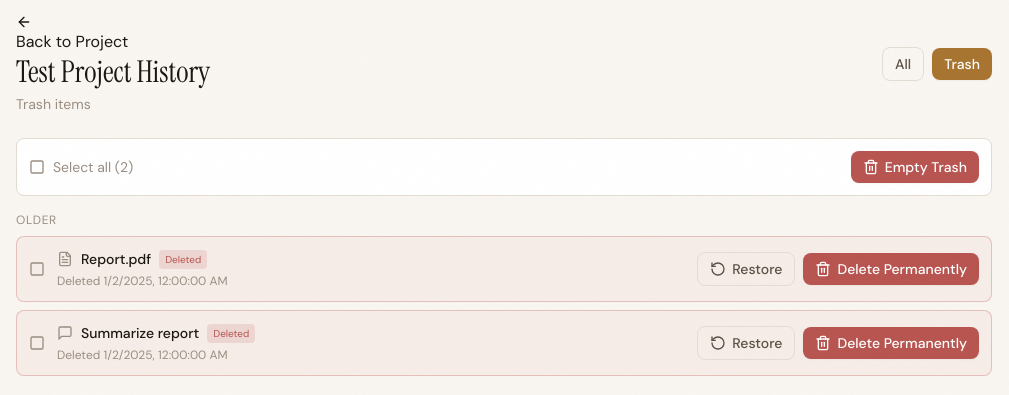
it: ProjectHistoryPage - Trash View › toggles selection when checkbox is clicked
Check: the text "Report.pdf" is shown, box [81,249,151,269]
// Click first item checkbox
Click the button without text in the row of "Report.pdf": {"x": 37, "y": 269} [29,261,45,277]
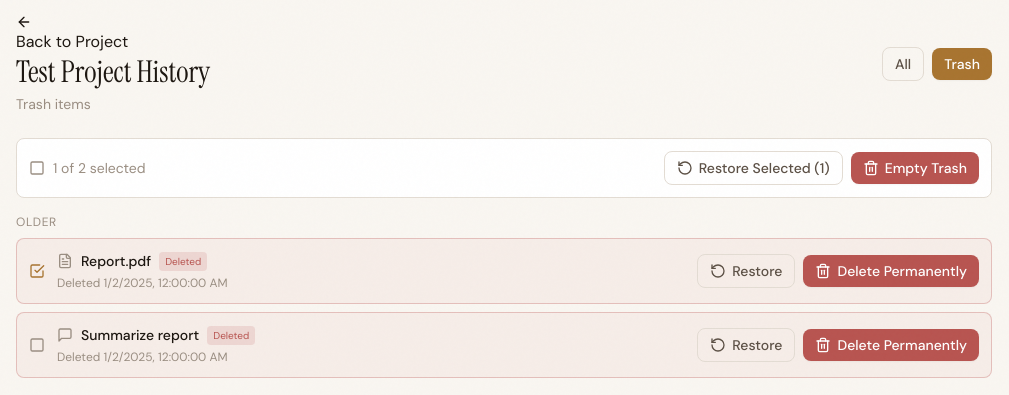
Check: the button "1 of 2 selected" is shown, box [29,158,146,178]
Check: the button "Restore Selected (1)" is shown, box [664,151,843,185]
// Click again to deselect
Click the button without text in the row of "Report.pdf": {"x": 37, "y": 271} [29,263,45,279]
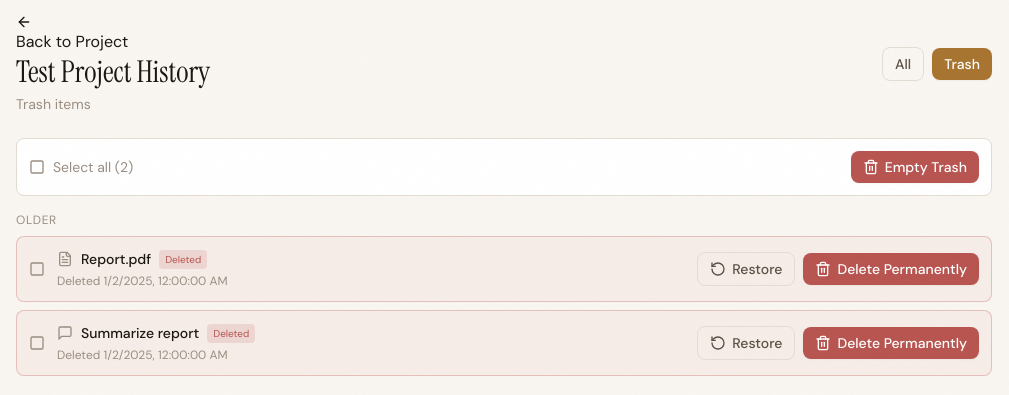
Check: the button "1 of 2 selected" is gone
Check: the button "Restore Selected" is gone
